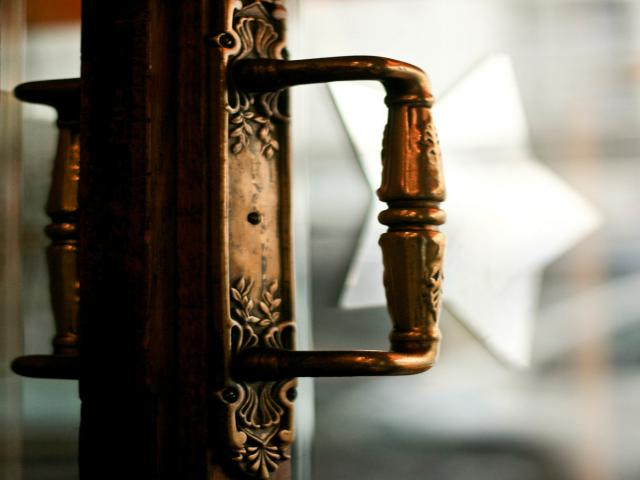Door-handle: (226, 50, 436, 380), (8, 77, 88, 385)
